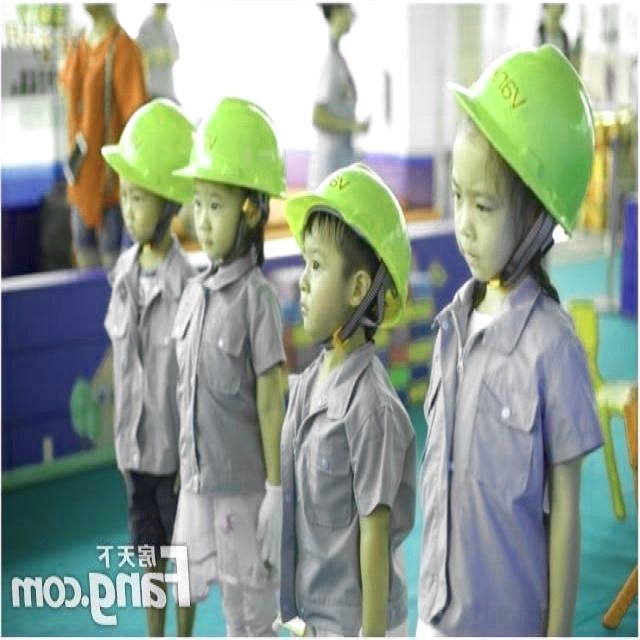Con_Casco: (295, 160, 410, 335), (185, 101, 279, 245)
Sin_Chaleco: (181, 267, 279, 477)
